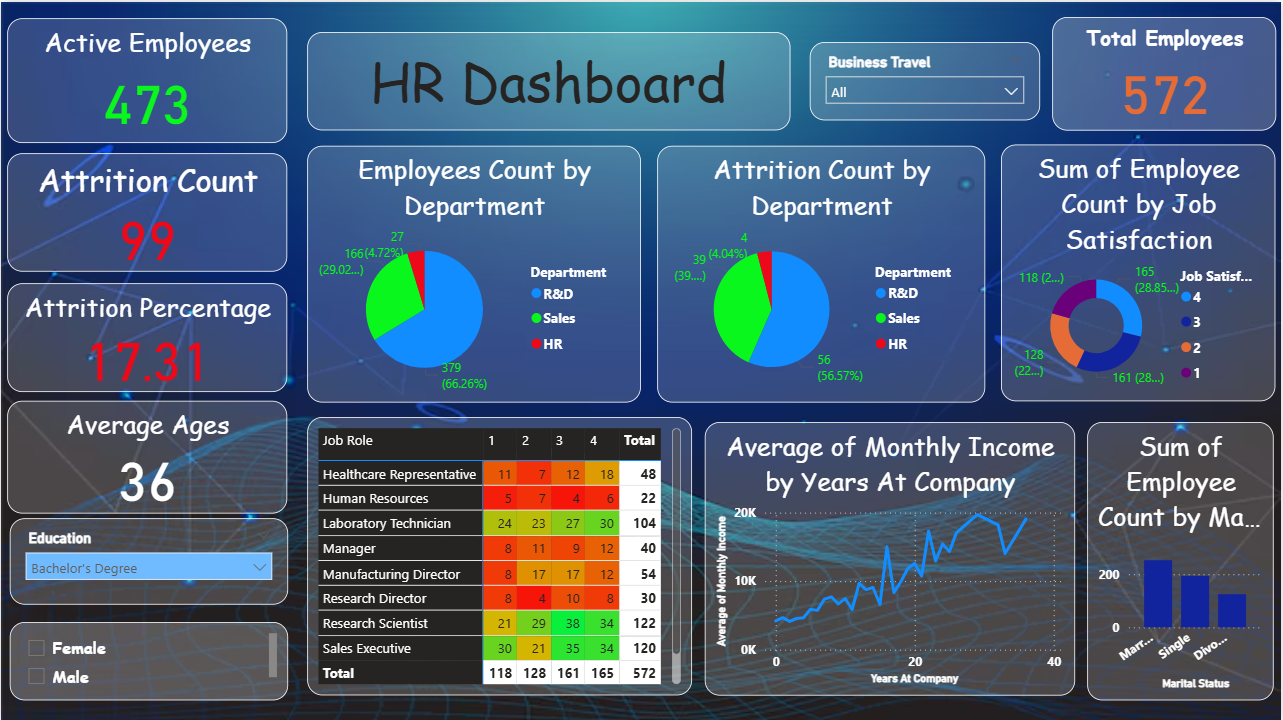

Layout of this report page (visuals, bound fields, positions):
{"tool":"powerbi","page":{"name":"Page 1","canvas":[1280,720],"ordinal":0},"visuals":[{"type":"card","title":"Total Employees","fields":{"Values":["Sum(Table1.Employee Count)"]},"box":[1051.1,15.1,223.7,113.9],"z":0},{"type":"card","title":"Attrition Count","fields":{"Values":["Sum(Table1.Attration_Rate)"]},"box":[6.9,150.9,279.9,118],"z":1000},{"type":"card","title":"Attrition Percentage","fields":{"Values":["Table1.Attrition_PER"]},"box":[6.9,281.3,279.9,108.4],"z":2000},{"type":"card","title":"Active Employees","fields":{"Values":["Table1.Active_Employee"]},"box":[6.9,16.5,279.9,124.9],"z":3000},{"type":"card","title":"Average Ages","fields":{"Values":["Avg(Table1.Age)"]},"box":[6.9,399.3,279.9,112.5],"z":4000},{"type":"textbox","box":[306.7,30,483.3,98.3],"z":5000},{"type":"pieChart","title":"Employees Count by Department","fields":{"Category":["Table1.Department"],"Y":["Sum(Table1.Employee Count)"]},"box":[306.7,143.3,333.3,256.7],"z":6000},{"type":"pieChart","title":"Attrition Count by Department","fields":{"Category":["Table1.Department"],"Y":["Sum(Table1.Attration_Rate)"]},"box":[655.9,144.1,328,256.6],"z":7000},{"type":"slicer","fields":{"Values":["Table1.Gender"]},"box":[8.3,620,278.3,78.3],"z":8000},{"type":"donutChart","fields":{"Category":["Table1.Job Satisfaction"],"Y":["Sum(Table1.Employee Count)"]},"box":[1000.3,142.7,274.4,256.6],"z":9000},{"type":"pivotTable","fields":{"Rows":["Table1.Job Role"],"Columns":["Table1.Job Satisfaction"],"Values":["Sum(Table1.Employee Count)"]},"box":[306.7,415,385,278.3],"z":10000},{"type":"lineChart","fields":{"Category":["Table1.Years At Company"],"Y":["Avg(Table1.Monthly Income)"]},"box":[703.3,420,370,273.3],"z":11000},{"type":"slicer","fields":{"Values":["Table1.Education"]},"box":[8.3,516.7,278.3,86.7],"z":11001},{"type":"columnChart","fields":{"Category":["Table1.Marital Status"],"Y":["Sum(Table1.Employee Count)"]},"box":[1086.7,420,186.7,278.3],"z":11002},{"type":"slicer","fields":{"Values":["Table1.Business Travel"]},"box":[808.3,40,230,78.3],"z":11003}]}

Visuals, with their boxes in screenshot pixels (x1, y1, x2, y2), scaled from the page's 1280x720 canvas onto the 1283x720 screenshot:
"Total Employees" card: left=1054, top=15, right=1278, bottom=129
"Attrition Count" card: left=7, top=151, right=287, bottom=269
"Attrition Percentage" card: left=7, top=281, right=287, bottom=390
"Active Employees" card: left=7, top=16, right=287, bottom=141
"Average Ages" card: left=7, top=399, right=287, bottom=512
textbox: left=307, top=30, right=792, bottom=128
"Employees Count by Department" pieChart: left=307, top=143, right=642, bottom=400
"Attrition Count by Department" pieChart: left=657, top=144, right=986, bottom=401
slicer - Table1.Gender: left=8, top=620, right=287, bottom=698
donutChart - Table1.Job Satisfaction x Sum(Table1.Employee Count): left=1003, top=143, right=1278, bottom=399
pivotTable - Table1.Job Role x Table1.Job Satisfaction: left=307, top=415, right=693, bottom=693
lineChart - Table1.Years At Company x Avg(Table1.Monthly Income): left=705, top=420, right=1076, bottom=693
slicer - Table1.Education: left=8, top=517, right=287, bottom=603
columnChart - Table1.Marital Status x Sum(Table1.Employee Count): left=1089, top=420, right=1276, bottom=698
slicer - Table1.Business Travel: left=810, top=40, right=1041, bottom=118
